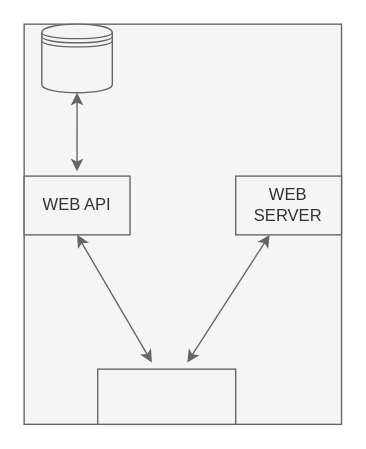
Some shapes in this 366 by 449 pixel diagram are drawn without their labels. Each missing label, with the box of its shape:
BROWSER: (96, 368, 236, 424)
MYSQL: (40, 23, 112, 93)
